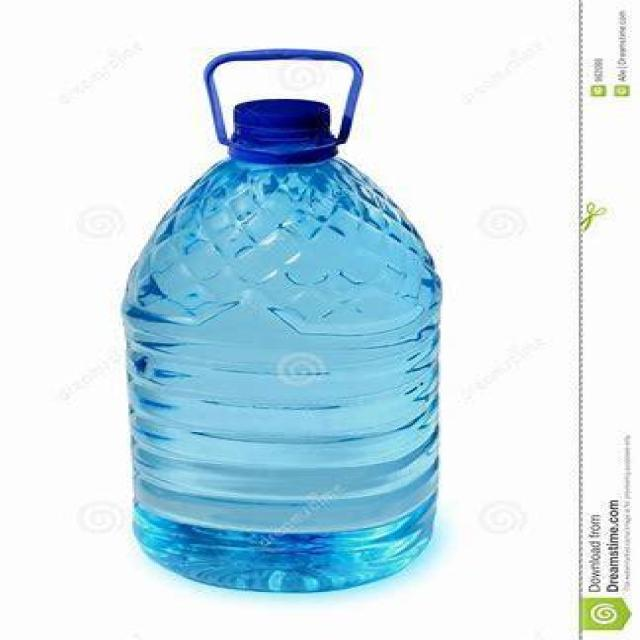bottle: (112, 38, 446, 602)
